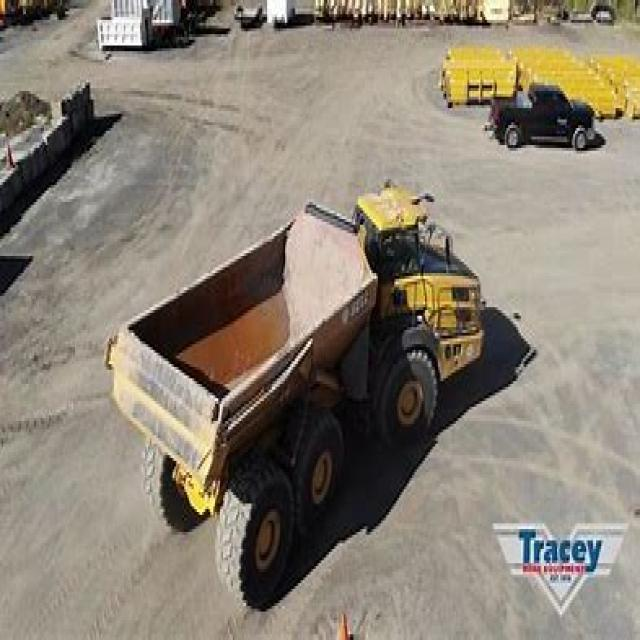dump_truck: (96, 174, 497, 600)
